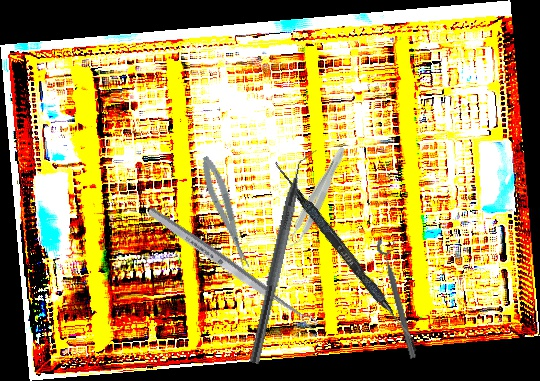Chopper: (249, 145, 320, 368)
Fixation Ring: (374, 236, 427, 360)
Micro Scissor: (196, 153, 254, 272)
Spatula Surgical: (267, 160, 426, 351)
Surgical Spoon: (145, 204, 320, 333)
Tissue Forceps: (281, 142, 350, 253)
